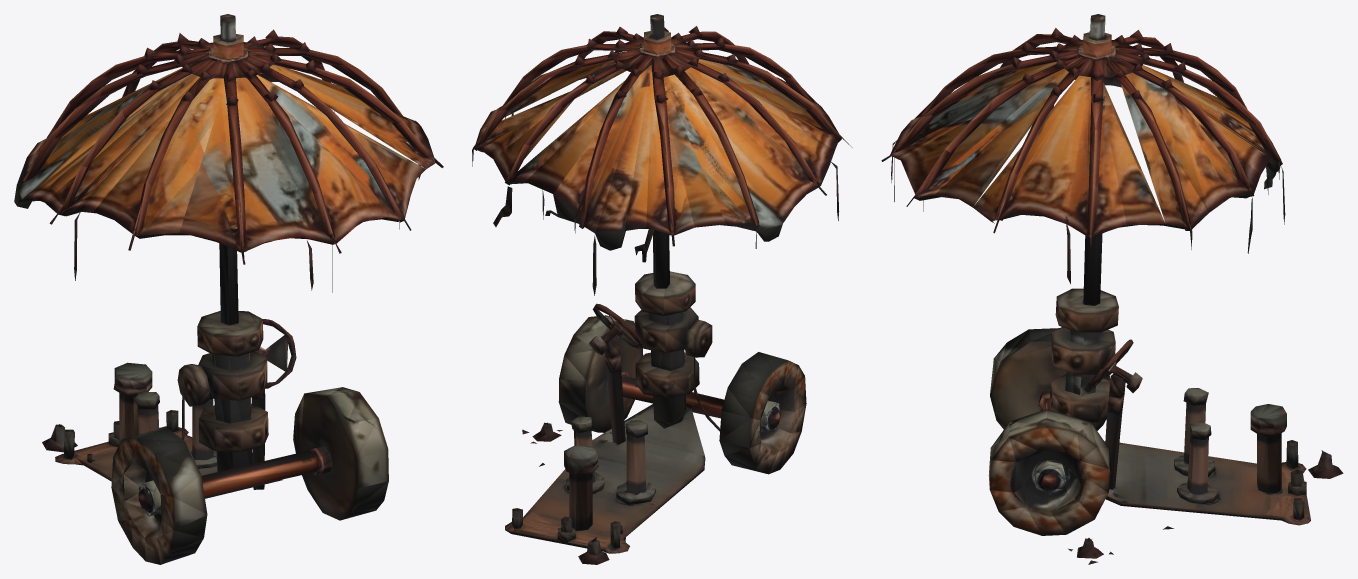
Rendered from roof_umbrella.glb.
3 renders of one model, left to right at view 1: azimuth 30°, elevation 25°; view 2: azimuth 150°, elevation 25°; view 3: azimuth 270°, elevation 25°, orthographic. The views are drawn at different scales.
Visible parts, largest first — view 1: tripo_node_6de8dee6-ce2c-4e6b-8b9a-2316ceb6b520; view 2: tripo_node_6de8dee6-ce2c-4e6b-8b9a-2316ceb6b520; view 3: tripo_node_6de8dee6-ce2c-4e6b-8b9a-2316ceb6b520.
Boxes of the visible parts, <box> form: tripo_node_6de8dee6-ce2c-4e6b-8b9a-2316ceb6b520: <box>14,14,443,564</box>; tripo_node_6de8dee6-ce2c-4e6b-8b9a-2316ceb6b520: <box>472,14,852,564</box>; tripo_node_6de8dee6-ce2c-4e6b-8b9a-2316ceb6b520: <box>881,14,1343,564</box>.
Size of the model in its own units: 0.7598 by 0.998 by 0.8711.
Materials: 1 (1 with a texture image).
